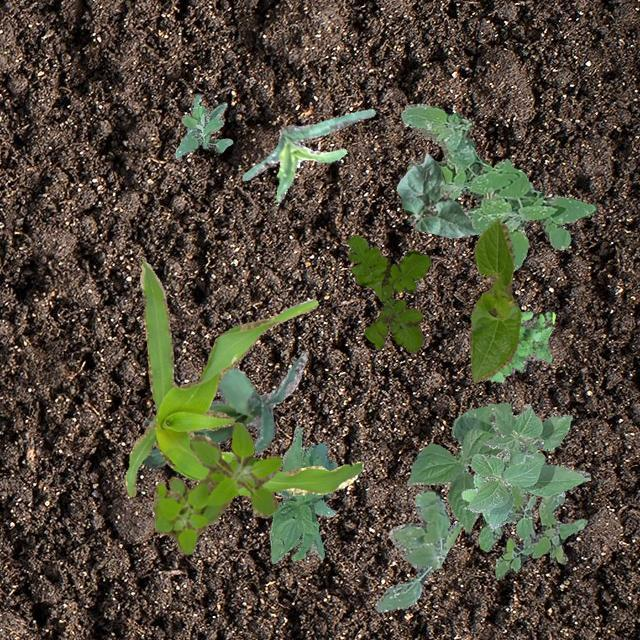crop: (125, 259, 362, 497), (140, 351, 308, 466), (462, 402, 588, 528), (406, 402, 512, 532), (240, 108, 374, 200), (268, 426, 336, 562), (468, 218, 520, 382), (396, 152, 476, 238)
weed: (399, 103, 596, 270), (152, 421, 280, 554), (460, 444, 586, 578), (374, 488, 461, 610), (346, 235, 430, 352), (486, 310, 554, 382), (174, 92, 232, 158), (276, 488, 334, 516)
